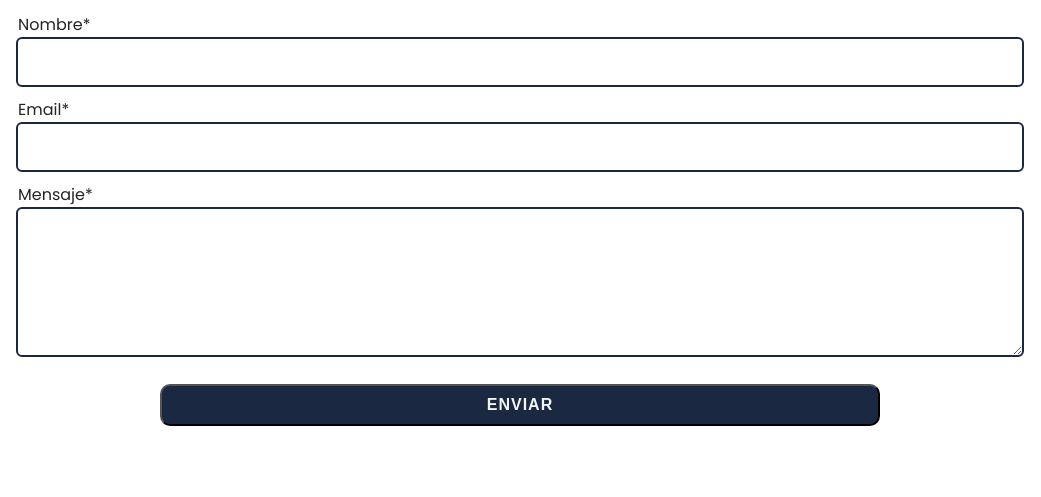
Test case: should show validation message for valid email format
input invalid email
Type "test" into the field labelled "Email*" at {"x": 520, "y": 147}, box [16,122,1024,172]
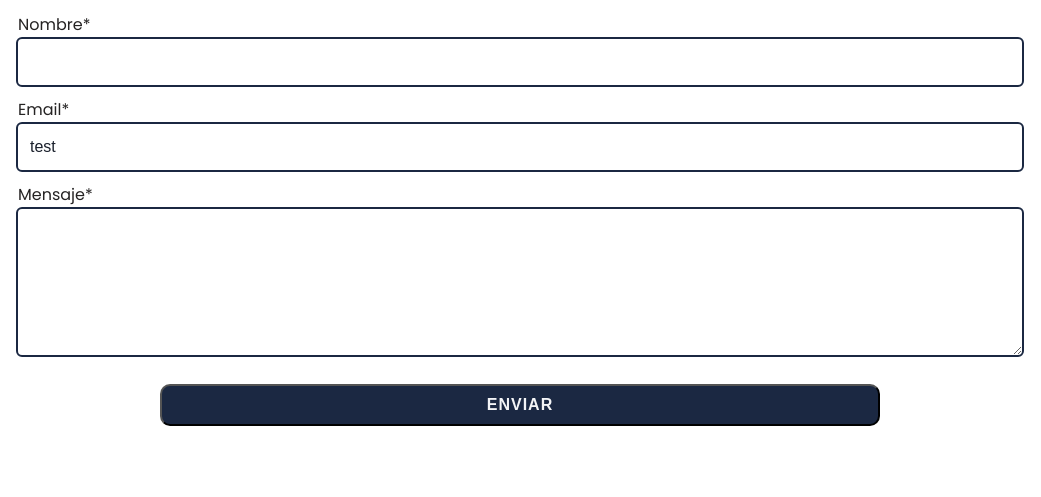
fire submit
Click the button "ENVIAR" at {"x": 520, "y": 405}, box [160,384,880,426]
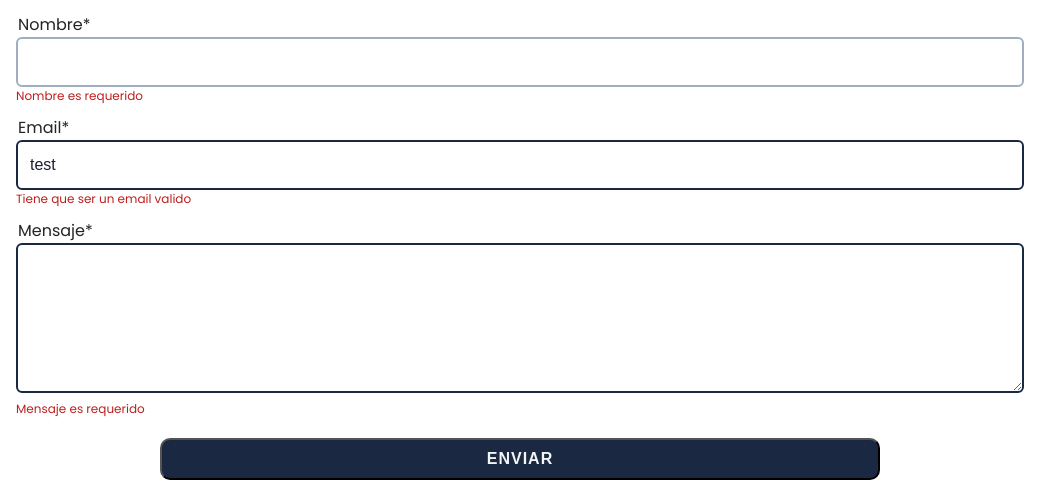
Check: the text "Tiene que ser un email valido" is shown, box [16,190,191,207]
